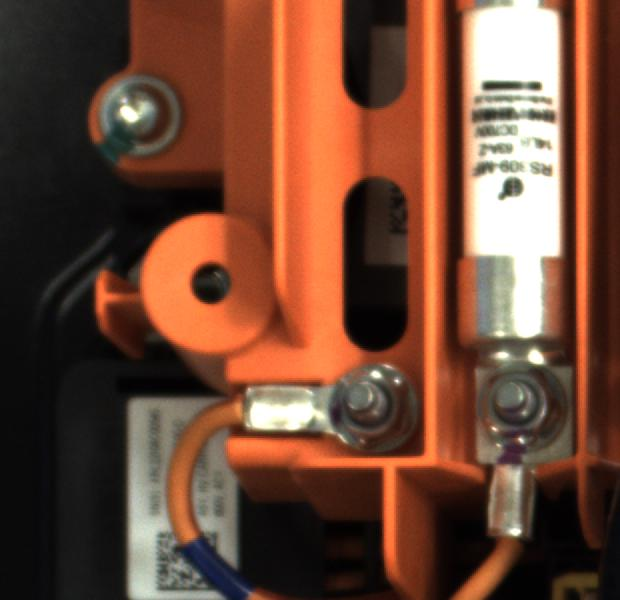screw_m: (87, 66, 198, 168)
screw_s: (469, 367, 579, 461), (318, 368, 417, 450)
